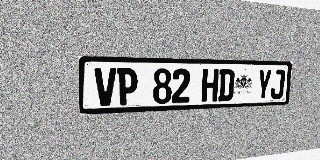2: (172, 68, 190, 103)
8: (153, 68, 172, 104)
D: (218, 69, 235, 101)
H: (201, 69, 219, 102)
J: (270, 70, 285, 99)
P: (117, 68, 138, 105)
V: (94, 68, 116, 106)
Y: (256, 69, 272, 100)
